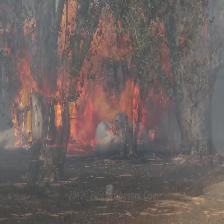fire: (5, 0, 208, 165)
